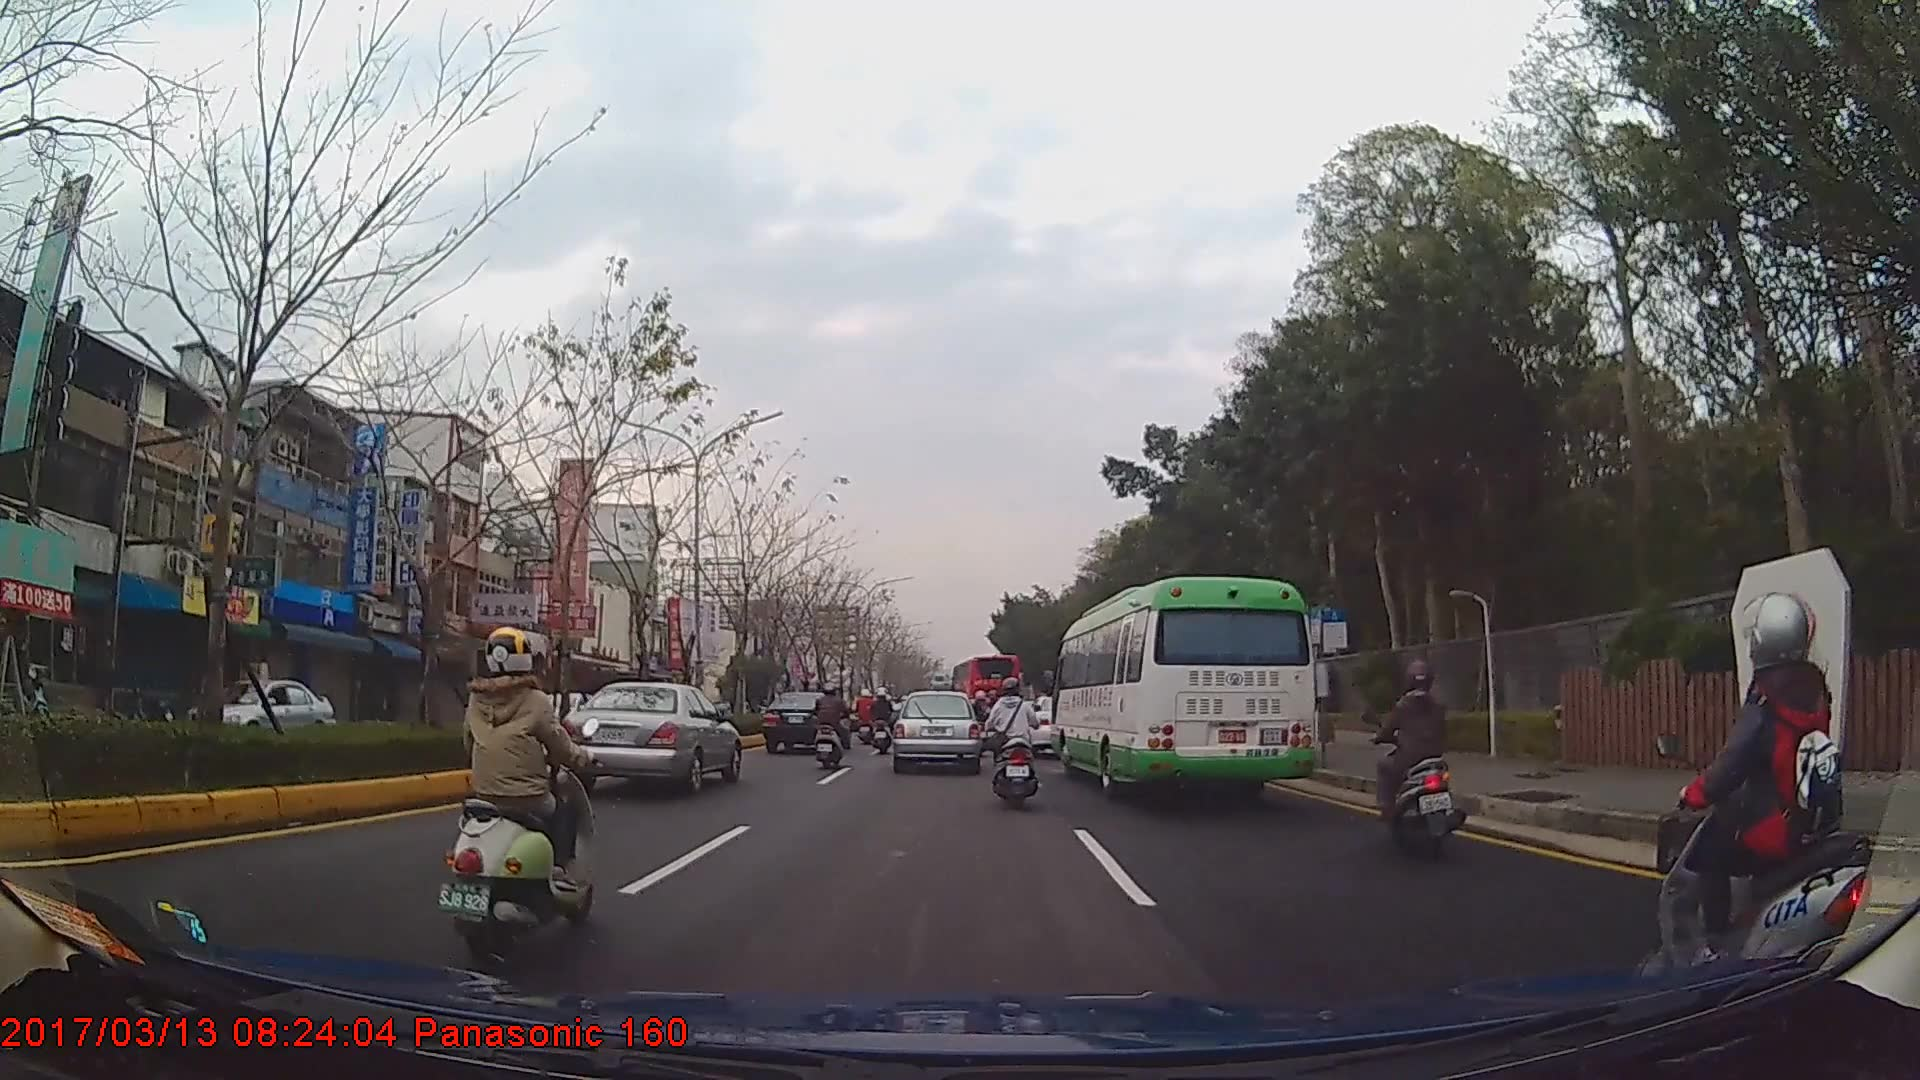rider: (1654, 590, 1878, 1040), (436, 625, 600, 968), (1367, 652, 1466, 859), (979, 676, 1038, 807), (812, 681, 849, 771), (871, 688, 895, 755), (854, 689, 878, 746), (973, 691, 995, 742)
vehicle: (1048, 574, 1316, 799), (560, 678, 739, 795), (178, 667, 336, 744), (889, 688, 981, 770), (760, 688, 851, 754), (949, 649, 1018, 718)
